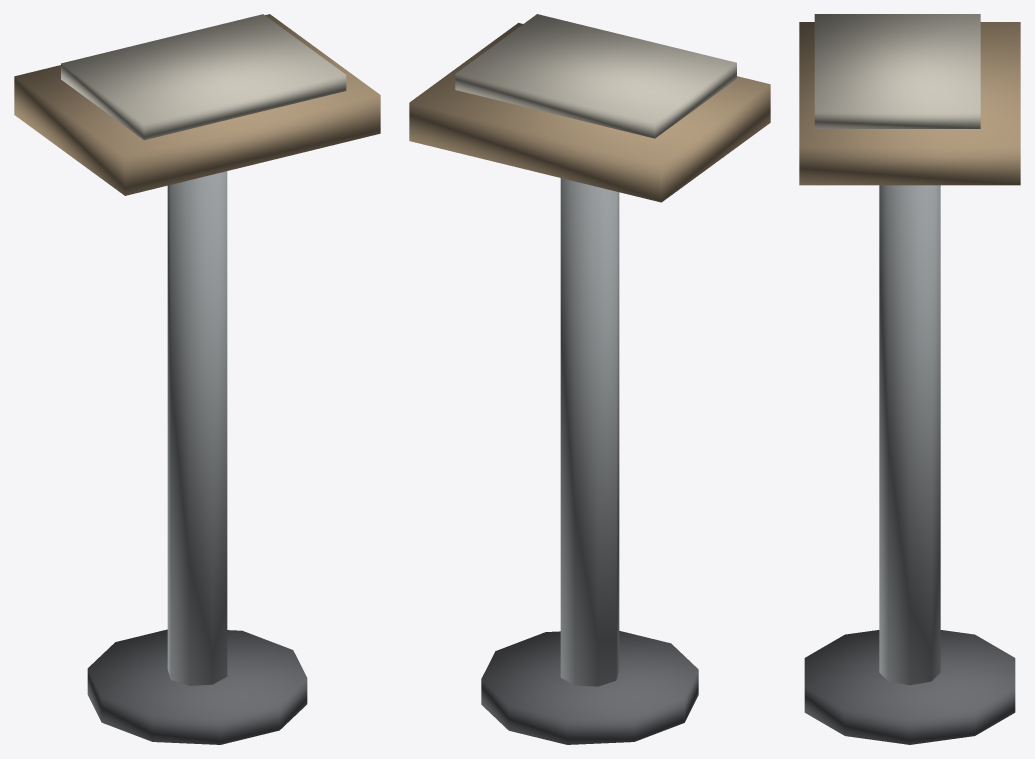
Rendered from memorial_plaque_stand__tall.glb.
3 views of the same model, side by side, from view 1: azimuth 30°, elevation 25°; view 2: azimuth 150°, elevation 25°; view 3: azimuth 270°, elevation 25° (orthographic).
Parts seen in each view (by area): view 1: world; view 2: world; view 3: world.
Boxes of the visible parts, bbox=[...] form: world: bbox=[14, 14, 380, 744]; world: bbox=[409, 14, 770, 744]; world: bbox=[799, 14, 1020, 744].
Bounding box in the file's own units: 0.48 × 1.14 × 0.36.
